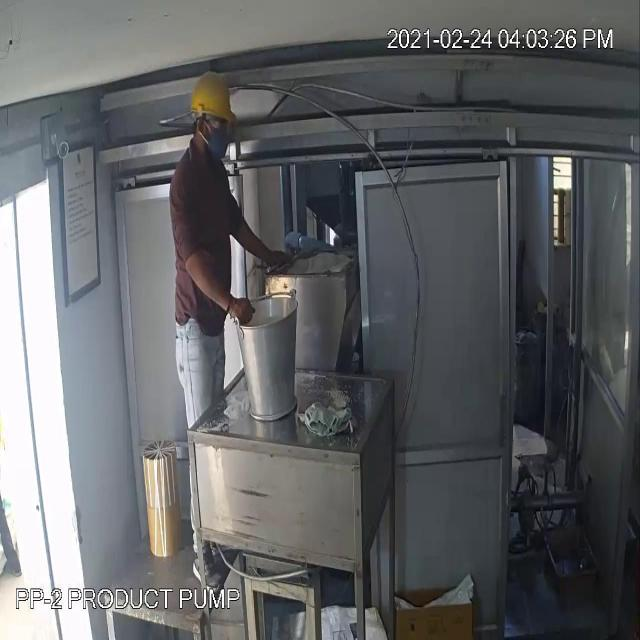helmet: (188, 71, 242, 125)
